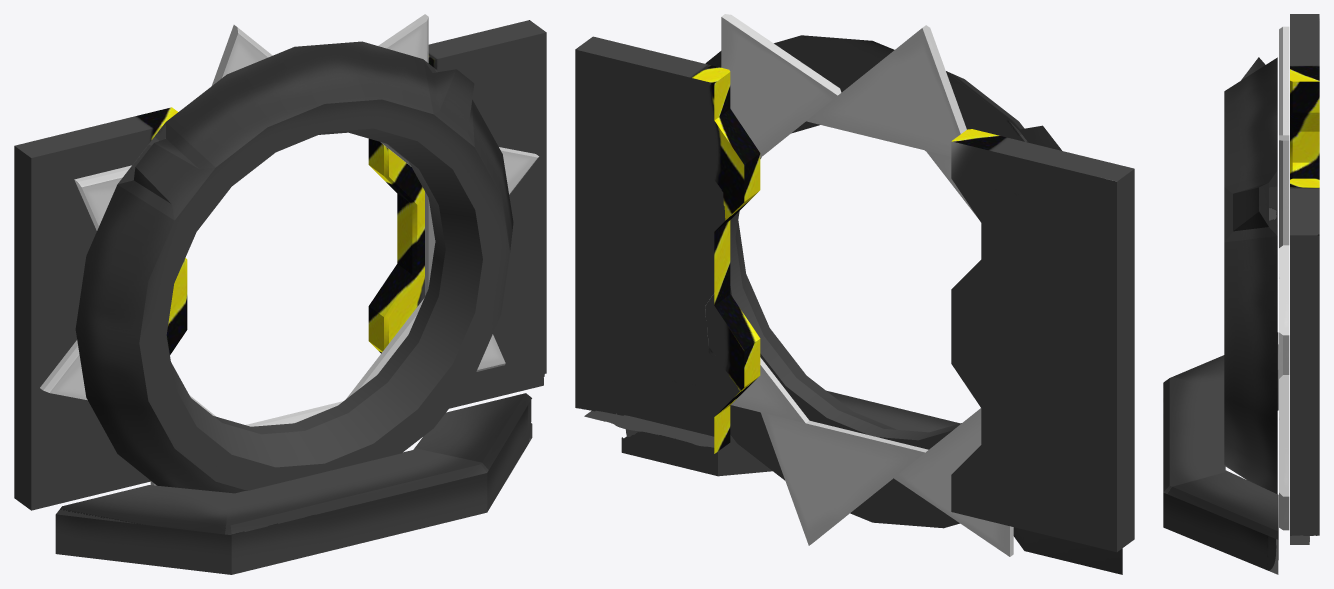
File: Iris Door Open.fbx
The picture shows the model from 3 angles, left to right: view 1: azimuth 30°, elevation 25°; view 2: azimuth 150°, elevation 25°; view 3: azimuth 270°, elevation 25°; orthographic projection. The views are drawn at different scales.
Parts seen in each view (by area): view 1: IrisDoor_Door, IrisDoor_step, Door_Left, Door_Right, IrisDoor_triangle1, IrisDoor_triangle6, IrisDoor_triangle2, IrisDoor_triangle7, IrisDoor_triangle5, IrisDoor_triangle8, IrisDoor_triangle3; view 2: Door_Left, Door_Right, IrisDoor_Door, IrisDoor_triangle7, IrisDoor_triangle3, IrisDoor_triangle8, IrisDoor_step, IrisDoor_triangle4, IrisDoor_triangle2; view 3: IrisDoor_Door, IrisDoor_step, Door_Right, Door_Left, IrisDoor_triangle1, IrisDoor_triangle2, IrisDoor_triangle8, IrisDoor_triangle7, IrisDoor_triangle3.
Boxes of the visible parts, x1,y1,x2,y2 form: IrisDoor_Door: (75,41,513,493); IrisDoor_step: (55,393,532,574); Door_Left: (14,107,187,510); Door_Right: (368,20,546,408); IrisDoor_triangle1: (425,147,539,296); IrisDoor_triangle6: (74,165,131,230); IrisDoor_triangle2: (346,298,505,398); IrisDoor_triangle7: (212,25,272,85); IrisDoor_triangle5: (40,340,87,400); IrisDoor_triangle8: (378,14,428,166); IrisDoor_triangle3: (246,401,343,426); Door_Left: (951,129,1134,552); Door_Right: (575,36,760,453); IrisDoor_Door: (705,35,1061,528); IrisDoor_triangle7: (806,25,966,156); IrisDoor_triangle3: (760,412,928,545); IrisDoor_triangle8: (721,14,841,157); IrisDoor_step: (621,390,1122,574); IrisDoor_triangle4: (894,408,1013,556); IrisDoor_triangle2: (731,357,809,423); IrisDoor_Door: (1224,57,1277,494); IrisDoor_step: (1163,332,1278,574); Door_Right: (1290,178,1319,544); Door_Left: (1290,14,1319,179); IrisDoor_triangle1: (1279,245,1289,378); IrisDoor_triangle2: (1279,375,1289,496); IrisDoor_triangle8: (1279,135,1289,247); IrisDoor_triangle7: (1279,26,1289,135); IrisDoor_triangle3: (1279,493,1289,530).
Bounding box in the file's own units: 259 × 249 × 77.35.
2 materials, 2 textured.
